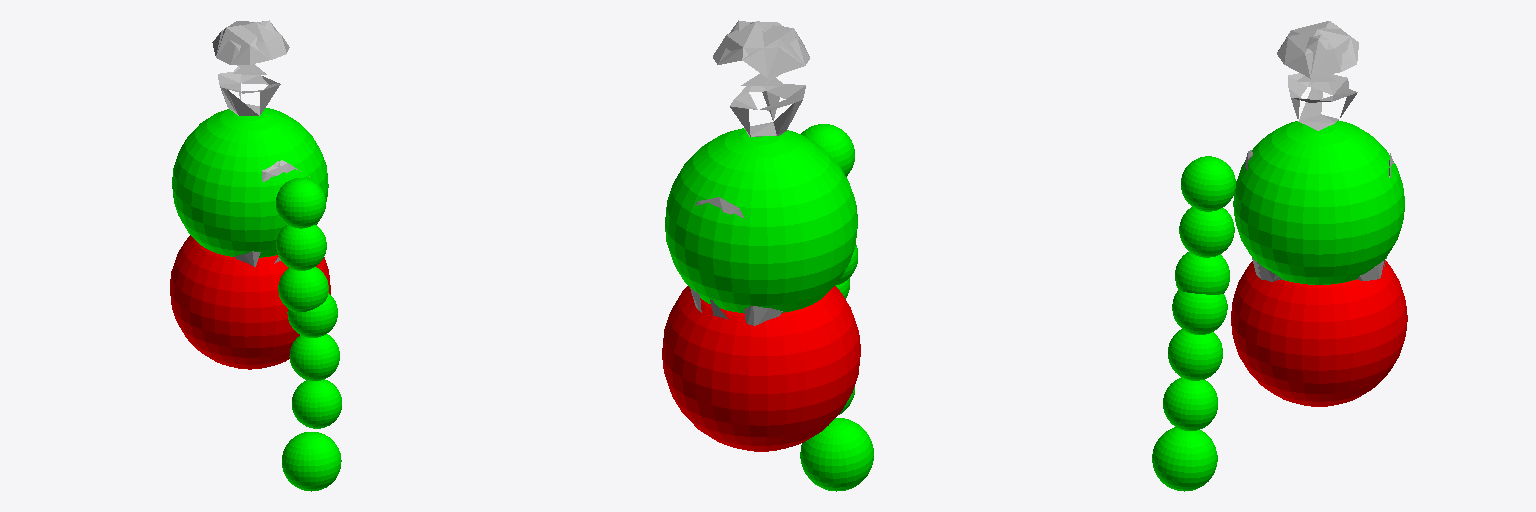
robot.urdf — tianyi2_description:
<?xml version="1.0" ?>
<!-- =================================================================================== -->
<!-- |    This document was autogenerated by xacro from tianyi2_description.urdf.xacro | -->
<!-- |    EDITING THIS FILE BY HAND IS NOT RECOMMENDED                                 | -->
<!-- =================================================================================== -->
<!-- This URDF was automatically created by SolidWorks to URDF Exporter! Originally created by Stephen Brawner (brawner@gmail.com) 
     Commit Version: 1.6.0-4-g7f85cfe  Build Version: 1.6.7995.38578
     For more information, please see http://wiki.ros.org/sw_urdf_exporter -->
<robot name="tianyi2_description">
<link name="waist_pitch_link">
    <inertial>
      <origin xyz="-0.000538 0.000614 0.188819" rpy="0 0 0" />
      <mass value="10.32379" />
      <inertia ixx="0.19644" ixy="0.000118" ixz="0.002999" iyy="0.161537" iyz="0.000194" izz="0.096682" />
    </inertial>
    <visual>
      <origin xyz="0 0 0" rpy="0 0 0" />
      <geometry>
        <mesh filename="package://tiangong2dex_description/meshes/waist_pitch_link.STL" />
      </geometry>
      <material name="">
        <color rgba="0.752941176470588 0.752941176470588 0.752941176470588 1" />
      </material>
    </visual>
    <collision>
      <origin xyz="0 0 0" rpy="0 0 0" />
      <geometry>
        <mesh filename="package://tiangong2dex_description/meshes/waist_pitch_link.STL" />
      </geometry>
    </collision>
  </link>

<link name="shoulder_pitch_r_link">
    <inertial>
      <origin xyz="0.004159 -0.068507 2.3e-05" rpy="0 0 0" />
      <mass value="0.909618" />
      <inertia ixx="0.001218" ixy="2e-05" ixz="0.0" iyy="0.000731" iyz="-3e-06" izz="0.000973" />
    </inertial>
    <visual>
      <origin xyz="0 0 0" rpy="0 0 0" />
      <geometry>
        <mesh filename="package://tiangong2dex_description/meshes/shoulder_pitch_r_link.STL" />
      </geometry>
      <material name="">
        <color rgba="0.752941176470588 0.752941176470588 0.752941176470588 1" />
      </material>
    </visual>
    <collision>
      <origin xyz="0 0 0" rpy="0 0 0" />
      <geometry>
        <mesh filename="package://tiangong2dex_description/meshes/shoulder_pitch_r_link.STL" />
      </geometry>
    </collision>
  </link>
  <joint name="shoulder_pitch_r_joint" type="revolute">
    <origin xyz="0 -0.13935 0.18595" rpy="-0.087266 0 0" />
    <parent link="waist_pitch_link" />
    <child link="shoulder_pitch_r_link" />
    <axis xyz="0 1 0" />
    <limit lower="-2.9670597283903604" upper="2.9670597283903604" effort="91.0" velocity="9.215338450530059" />
  </joint>
  <link name="shoulder_roll_r_link">
    <inertial>
      <origin xyz="0.002685 2e-06 -0.048205" rpy="0 0 0" />
      <mass value="0.291432" />
      <inertia ixx="0.000897" ixy="0.0" ixz="-1.4e-05" iyy="0.001004" iyz="0.0" izz="0.000519" />
    </inertial>
    <visual>
      <origin xyz="0 0 0" rpy="0 0 0" />
      <geometry>
        <mesh filename="package://tiangong2dex_description/meshes/shoulder_roll_r_link.STL" />
      </geometry>
      <material name="">
        <color rgba="0.752941176470588 0.752941176470588 0.752941176470588 1" />
      </material>
    </visual>
    <collision>
      <origin xyz="0 0 0" rpy="0 0 0" />
      <geometry>
        <mesh filename="package://tiangong2dex_description/meshes/shoulder_roll_r_link.STL" />
      </geometry>
    </collision>
  </link>
  <joint name="shoulder_roll_r_joint" type="revolute">
    <origin xyz="0 -0.074003 0" rpy="0 0 0" />
    <parent link="shoulder_pitch_r_link" />
    <child link="shoulder_roll_r_link" />
    <axis xyz="1 0 0" />
    <limit lower="-3.4033920413889422" upper="0.2617993877991494" effort="60.0" velocity="12.56637061435917" />
  </joint>
  <link name="shoulder_yaw_r_link">
    <inertial>
      <origin xyz="0.011778 -0.002807 -0.095219" rpy="0 0 0" />
      <mass value="1.453126" />
      <inertia ixx="0.005642" ixy="3.4e-05" ixz="0.000793" iyy="0.006039" iyz="-0.000184" izz="0.001316" />
    </inertial>
    <visual>
      <origin xyz="0 0 0" rpy="0 0 0" />
      <geometry>
        <mesh filename="package://tiangong2dex_description/meshes/shoulder_yaw_r_link.STL" />
      </geometry>
      <material name="">
        <color rgba="0.752941176470588 0.752941176470588 0.752941176470588 1" />
      </material>
    </visual>
    <collision>
      <origin xyz="0 0 0" rpy="0 0 0" />
      <geometry>
        <mesh filename="package://tiangong2dex_description/meshes/shoulder_yaw_r_link.STL" />
      </geometry>
    </collision>
  </link>
  <joint name="shoulder_yaw_r_joint" type="revolute">
    <origin xyz="0 0 -0.1198" rpy="0 0 0" />
    <parent link="shoulder_roll_r_link" />
    <child link="shoulder_yaw_r_link" />
    <axis xyz="0 0 1" />
    <limit lower="-2.9670597283903604" upper="2.9670597283903604" effort="36.0" velocity="7.644542123735163" />
  </joint>
  <link name="elbow_pitch_r_link">
    <inertial>
      <origin xyz="-0.016886 -0.000922 -0.069512" rpy="0 0 0" />
      <mass value="0.684992" />
      <inertia ixx="0.001476" ixy="8e-06" ixz="-0.00015" iyy="0.00138" iyz="3.6e-05" izz="0.000724" />
    </inertial>
    <visual>
      <origin xyz="0 0 0" rpy="0 0 0" />
      <geometry>
        <mesh filename="package://tiangong2dex_description/meshes/elbow_pitch_r_link.STL" />
      </geometry>
      <material name="">
        <color rgba="0.752941176470588 0.752941176470588 0.752941176470588 1" />
      </material>
    </visual>
    <collision>
      <origin xyz="0 0 0" rpy="0 0 0" />
      <geometry>
        <mesh filename="package://tiangong2dex_description/meshes/elbow_pitch_r_link.STL" />
      </geometry>
    </collision>
  </link>
  <joint name="elbow_pitch_r_joint" type="revolute">
    <origin xyz="0.02 0 -0.1402" rpy="0 0 0" />
    <parent link="shoulder_yaw_r_link" />
    <child link="elbow_pitch_r_link" />
    <axis xyz="0 1 0" />
    <limit lower="-2.6179938779914944" upper="0.2617993877991494" effort="60.0" velocity="7.644542123735163" />
  </joint>
  <link name="elbow_yaw_r_link">
    <inertial>
      <origin xyz="2e-06 -0.003301 -0.047544" rpy="0 0 0" />
      <mass value="0.150855" />
      <inertia ixx="0.000293" ixy="0.0" ixz="0.0" iyy="0.000229" iyz="-1.2e-05" izz="0.000168" />
    </inertial>
    <visual>
      <origin xyz="0 0 0" rpy="0 0 0" />
      <geometry>
        <mesh filename="package://tiangong2dex_description/meshes/elbow_yaw_r_link.STL" />
      </geometry>
      <material name="">
        <color rgba="0.752941176470588 0.752941176470588 0.752941176470588 1" />
      </material>
    </visual>
    <collision>
      <origin xyz="0 0 0" rpy="0 0 0" />
      <geometry>
        <mesh filename="package://tiangong2dex_description/meshes/elbow_yaw_r_link.STL" />
      </geometry>
    </collision>
  </link>
  <joint name="elbow_yaw_r_joint" type="revolute">
    <origin xyz="-0.02 0 -0.112" rpy="0 0 0" />
    <parent link="elbow_pitch_r_link" />
    <child link="elbow_yaw_r_link" />
    <axis xyz="0 0 1" />
    <limit lower="-2.9670597283903604" upper="2.9670597283903604" effort="36.0" velocity="15.289084247470326" />
  </joint>
  <link name="wrist_pitch_r_link">
    <inertial>
      <origin xyz="0.002678 -0.003481 -0.030765" rpy="0 0 0" />
      <mass value="1.064383" />
      <inertia ixx="0.00175" ixy="-1e-05" ixz="8.8e-05" iyy="0.001741" iyz="0.000114" izz="0.000714" />
    </inertial>
    <visual>
      <origin xyz="0 0 0" rpy="0 0 0" />
      <geometry>
        <mesh filename="package://tiangong2dex_description/meshes/wrist_pitch_r_link.STL" />
      </geometry>
      <material name="">
        <color rgba="0.752941176470588 0.752941176470588 0.752941176470588 1" />
      </material>
    </visual>
    <collision>
      <origin xyz="0 0 0" rpy="0 0 0" />
      <geometry>
        <mesh filename="package://tiangong2dex_description/meshes/wrist_pitch_r_link.STL" />
      </geometry>
    </collision>
  </link>
  <joint name="wrist_pitch_r_joint" type="revolute">
    <origin xyz="0 0 -0.086" rpy="0 0 0" />
    <parent link="elbow_yaw_r_link" />
    <child link="wrist_pitch_r_link" />
    <axis xyz="0 1 0" />
    <limit lower="-1.3962634015954636" upper="1.3962634015954636" effort="36.0" velocity="7.5398223686155035" />
  </joint>
  <link name="wrist_roll_r_link">
    <inertial>
      <origin xyz="0.014657 -1.7e-05 -0.024943" rpy="0 0 0" />
      <mass value="0.109123" />
      <inertia ixx="7.7e-05" ixy="0.0" ixz="-3.3e-05" iyy="9.5e-05" iyz="0.0" izz="7e-05" />
    </inertial>
    <visual>
      <origin xyz="0 0 0" rpy="0 0 0" />
      <geometry>
        <mesh filename="package://tiangong2dex_description/meshes/wrist_roll_r_link.STL" />
      </geometry>
      <material name="">
        <color rgba="0.752941176470588 0.752941176470588 0.752941176470588 1" />
      </material>
    </visual>
    <collision>
      <origin xyz="0 0 0" rpy="0 0 0" />
      <geometry>
        <mesh filename="package://tiangong2dex_description/meshes/wrist_roll_r_link.STL" />
      </geometry>
    </collision>
  </link>
  <joint name="wrist_roll_r_joint" type="revolute">
    <origin xyz="0 0 -0.061999" rpy="0 0 0" />
    <parent link="wrist_pitch_r_link" />
    <child link="wrist_roll_r_link" />
    <axis xyz="1 0 0" />
    <limit lower="-1.3962634015954636" upper="1.3962634015954636" effort="36.0" velocity="7.5398223686155035" />
  </joint>
  <link name="right_tcp_link">
    <inertial>
      <origin xyz="0.002131 0.001921 -0.050085" rpy="0 0 0" />
      <mass value="0.151835" />
      <inertia ixx="0.000139" ixy="-8e-06" ixz="-3e-06" iyy="0.000175" iyz="1e-05" izz="0.000131" />
    </inertial>
    <visual>
      <origin xyz="0 0 0" rpy="0 0 0" />
      <geometry>
        <mesh filename="package://tiangong2dex_description/meshes/right_tcp_link.STL" />
      </geometry>
      <material name="">
        <color rgba="0.752941176470588 0.752941176470588 0.752941176470588 1" />
      </material>
    </visual>
    <collision>
      <origin xyz="0 0 0" rpy="0 0 0" />
      <geometry>
        <mesh filename="package://tiangong2dex_description/meshes/right_tcp_link.STL" />
      </geometry>
    </collision>
  </link>
  <joint name="right_tcp_joint" type="fixed">
    <origin xyz="0 0 -0.048905" rpy="0 0 0" />
    <parent link="wrist_roll_r_link" />
    <child link="right_tcp_link" />
    <axis xyz="0 0 0" />
  </joint>

   <!--base-->
  <link name="base_collision_1">
    <visual>
      <origin xyz="0 0 0" rpy="0 0 0"/>
      <geometry>
        <sphere radius="0.175"/>
      </geometry>
      <material name="red">
        <color rgba="1 0 0 0.2"/>
      </material>
    </visual>
    <inertial>
      <origin xyz="0 0 0" rpy="0 0 0"/>
      <mass value="0.001"/>
      <inertia ixx="0.0001" iyy="0.0001" izz="0.0001" ixy="0" ixz="0" iyz="0"/>
    </inertial>
  </link>
  <link name="base_collision_2">
    <visual>
      <origin xyz="0 0 0" rpy="0 0 0"/>
      <geometry>
        <sphere radius="0.17"/>
      </geometry>
      <material name="green">
        <color rgba="0 1 0 0.2"/>
      </material>
    </visual>
    <inertial>
      <origin xyz="0 0 0" rpy="0 0 0"/>
      <mass value="0.001"/>
      <inertia ixx="0.0001" iyy="0.0001" izz="0.0001" ixy="0" ixz="0" iyz="0"/>
    </inertial>
  </link>
  <joint name="base_collision_joint_1" type="fixed">
    <parent link="waist_pitch_link"/>
    <child link="base_collision_1"/>
    <!-- <origin xyz="0.27 0.40 -0.15" rpy="0 0 0"/> -->
    <origin xyz="-0.00 0.0 -0.10" rpy="0 0 0"/>

  </joint>
  <joint name="base_collision_joint_2" type="fixed">
    <parent link="waist_pitch_link"/>
    <child link="base_collision_2"/>
    <origin xyz="0 0 0.15" rpy="0 0 0"/>
  </joint>


  <link name="right_collision_11">
    <visual>
      <origin xyz="0 0 0" rpy="0 0 0"/>
      <geometry>
        <sphere radius="0.055"/>
      </geometry>
      <material name="green">
        <color rgba="0 1 0 0.055"/>
      </material>
    </visual>
    <inertial>
      <origin xyz="0 0 0" rpy="0 0 0"/>
      <mass value="0.001"/>
      <inertia ixx="0.0001" iyy="0.0001" izz="0.0001" ixy="0" ixz="0" iyz="0"/>
    </inertial>
  </link>

  <link name="right_collision_21">
    <visual>
      <origin xyz="0 0 0" rpy="0 0 0"/>
      <geometry>
        <sphere radius="0.055"/>
      </geometry>
      <material name="green">
        <color rgba="0 1 0 0.055"/>
      </material>
    </visual>
    <inertial>
      <origin xyz="0 0 0" rpy="0 0 0"/>
      <mass value="0.001"/>
      <inertia ixx="0.0001" iyy="0.0001" izz="0.0001" ixy="0" ixz="0" iyz="0"/>
    </inertial>
  </link>
  <link name="right_collision_22">
    <visual>
      <origin xyz="0 0 0" rpy="0 0 0"/>
      <geometry>
        <sphere radius="0.055"/>
      </geometry>
      <material name="green">
        <color rgba="0 1 0 0.055"/>
      </material>
    </visual>
    <inertial>
      <origin xyz="0 0 0" rpy="0 0 0"/>
      <mass value="0.001"/>
      <inertia ixx="0.0001" iyy="0.0001" izz="0.0001" ixy="0" ixz="0" iyz="0"/>
    </inertial>
  </link>

  <link name="right_collision_31">
    <visual>
      <origin xyz="0 0 0" rpy="0 0 0"/>
      <geometry>
        <sphere radius="0.055"/>
      </geometry>
      <material name="green">
        <color rgba="0 1 0 0.055"/>
      </material>
    </visual>
    <inertial>
      <origin xyz="0 0 0" rpy="0 0 0"/>
      <mass value="0.001"/>
      <inertia ixx="0.0001" iyy="0.0001" izz="0.0001" ixy="0" ixz="0" iyz="0"/>
    </inertial>
  </link>

  <link name="right_collision_41">
    <visual>
      <origin xyz="0 0 0" rpy="0 0 0"/>
      <geometry>
        <sphere radius="0.055"/>
      </geometry>
      <material name="green">
        <color rgba="0 1 0 0.055"/>
      </material>left
    </visual>
    <inertial>
      <origin xyz="0 0 0" rpy="0 0 0"/>
      <mass value="0.001"/>
      <inertia ixx="0.0001" iyy="0.0001" izz="0.0001" ixy="0" ixz="0" iyz="0"/>
    </inertial>
  </link>
  <link name="right_collision_51">
    <visual>
      <origin xyz="0 0 0" rpy="0 0 0"/>
      <geometry>
        <sphere radius="0.055"/>
      </geometry>
      <material name="green">
        <color rgba="0 1 0 0.055"/>
      </material>
    </visual>
    <inertial>
      <origin xyz="0 0 0" rpy="0 0 0"/>
      <mass value="0.001"/>
      <inertia ixx="0.0001" iyy="0.0001" izz="0.0001" ixy="0" ixz="0" iyz="0"/>
    </inertial>
  </link>
  <link name="right_collision_52">
    <visual>
      <origin xyz="0 0 0" rpy="0 0 0"/>
      <geometry>
        <sphere radius="0.055"/>
      </geometry>
      <material name="green">
        <color rgba="0 1 0 0.055"/>
      </material>
    </visual>
    <inertial>
      <origin xyz="0 0 0" rpy="0 0 0"/>
      <mass value="0.001"/>
      <inertia ixx="0.0001" iyy="0.0001" izz="0.0001" ixy="0" ixz="0" iyz="0"/>
    </inertial>
  </link>
  <link name="right_collision_61">
    <visual>
      <origin xyz="0 0 0" rpy="0 0 0"/>
      <geometry>
        <sphere radius="0.065"/>
      </geometry>
      <material name="green">
        <color rgba="0 1 0 0.055"/>
      </material>
    </visual>
    <inertial>
      <origin xyz="0 0 0" rpy="0 0 0"/>
      <mass value="0.001"/>
      <inertia ixx="0.0001" iyy="0.0001" izz="0.0001" ixy="0" ixz="0" iyz="0"/>
    </inertial>
  </link>
 <joint name="right_collision_joint_11" type="fixed">
    <parent link="shoulder_pitch_r_link"/>
    <child link="right_collision_11"/>
    <origin xyz="0 -0.08 0.0" rpy="0 0 0"/>
  </joint>

  <joint name="right_collision_joint_21" type="fixed">
    <parent link="shoulder_roll_r_link"/>
    <child link="right_collision_21"/>
    <origin xyz="0 0 -0.1" rpy="0 0 0"/>
  </joint>

  <joint name="right_collision_joint_22" type="fixed">
    <parent link="shoulder_roll_r_link"/>
    <child link="right_collision_22"/>
    <origin xyz="0 0 -0.2" rpy="0 0 0"/>
  </joint>
  <joint name="right_collision_joint_31" type="fixed">
    <parent link="shoulder_yaw_r_link"/>
    <child link="right_collision_31"/>
    <origin xyz="0 0 -0.08" rpy="0 0 0"/>
  </joint>

  <joint name="right_collision_joint_41" type="fixed">
    <parent link="elbow_pitch_r_link"/>
    <child link="right_collision_41"/>
    <origin xyz="0 -0.0 0.0" rpy="0 0 0"/>
  </joint>

  <joint name="right_collision_joint_51" type="fixed">
    <parent link="elbow_pitch_r_link"/>
    <child link="right_collision_51"/>
    <origin xyz="0 0 -0.1" rpy="0 0 0"/>
  </joint>
  <joint name="right_collision_joint_52" type="fixed">
    <parent link="elbow_pitch_r_link"/>
    <child link="right_collision_52"/>
    <origin xyz="0 0 -0.21" rpy="0 0 0"/>
  </joint>
  <joint name="right_collision_joint_61" type="fixed">
    <parent link="wrist_roll_r_link"/>
    <child link="right_collision_61"/>
    <origin xyz="0 0 -0.08" rpy="0 0 0"/>
  </joint>  

</robot>

--- Facts derived from the render (not from the file) ---
The picture shows the robot from 3 angles, left to right: view 1: azimuth 30°, elevation 25°; view 2: azimuth 150°, elevation 25°; view 3: azimuth 270°, elevation 25°; orthographic projection.
Model tianyi2_description with 19 links and 18 joints (7 revolute, 11 fixed), rooted at waist_pitch_link, posed every joint at zero.
Links seen in each view (by area): view 1: base_collision_2, base_collision_1, waist_pitch_link, right_collision_61, right_collision_11, right_collision_52, right_collision_51, right_collision_21, right_collision_41, right_collision_31, right_collision_22; view 2: base_collision_2, base_collision_1, waist_pitch_link, right_collision_61, right_collision_11; view 3: base_collision_2, base_collision_1, waist_pitch_link, right_collision_61, right_collision_11, right_collision_52, right_collision_21, right_collision_51, right_collision_41, right_collision_31.
Link boxes in pixels (left/top/right/bottom): base_collision_2: left=172, top=108, right=328, bottom=257; base_collision_1: left=170, top=235, right=330, bottom=369; waist_pitch_link: left=212, top=20, right=309, bottom=266; right_collision_61: left=282, top=432, right=341, bottom=491; right_collision_11: left=276, top=178, right=325, bottom=228; right_collision_52: left=292, top=379, right=341, bottom=428; right_collision_51: left=289, top=334, right=339, bottom=380; right_collision_21: left=276, top=225, right=326, bottom=270; right_collision_41: left=287, top=293, right=337, bottom=337; right_collision_31: left=278, top=267, right=328, bottom=297; right_collision_22: left=278, top=289, right=328, bottom=312; base_collision_2: left=665, top=128, right=857, bottom=312; base_collision_1: left=662, top=286, right=860, bottom=451; waist_pitch_link: left=690, top=20, right=809, bottom=325; right_collision_61: left=800, top=418, right=873, bottom=491; right_collision_11: left=801, top=124, right=854, bottom=176; base_collision_2: left=1233, top=120, right=1404, bottom=284; base_collision_1: left=1231, top=260, right=1407, bottom=406; waist_pitch_link: left=1245, top=21, right=1393, bottom=281; right_collision_61: left=1152, top=427, right=1217, bottom=491; right_collision_11: left=1181, top=156, right=1235, bottom=211; right_collision_52: left=1163, top=377, right=1217, bottom=430; right_collision_21: left=1179, top=207, right=1234, bottom=257; right_collision_51: left=1168, top=329, right=1222, bottom=380; right_collision_41: left=1172, top=290, right=1227, bottom=334; right_collision_31: left=1175, top=252, right=1229, bottom=287.
Size in the robot's own frame: 0.35 by 0.5051 by 1.01 metres.
1 mesh visuals loaded from 9 distinct referenced files (1 binary STL); not drawn: 8 (reference not matched to a file when rendering).
